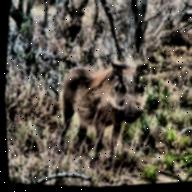boar: (55, 42, 163, 154)
